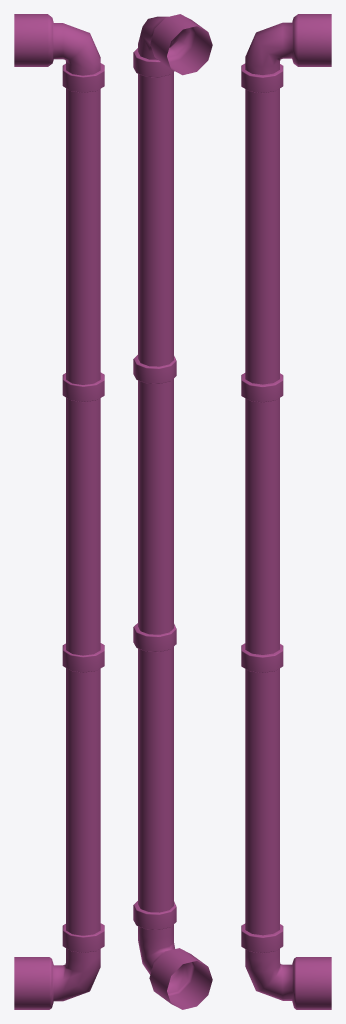
The model's file is Pipe_Large.fbx.
3 views of the same model, side by side, from view 1: azimuth 90°, elevation 25°; view 2: azimuth 210°, elevation 25°; view 3: azimuth 270°, elevation 25° (orthographic).
Parts seen in each view (by area): view 1: Pipe_Large; view 2: Pipe_Large; view 3: Pipe_Large.
Boxes of the visible parts, box(x1,y1,x2,y2) form: Pipe_Large: box(14, 14, 104, 1009); Pipe_Large: box(133, 14, 212, 1009); Pipe_Large: box(241, 14, 331, 1009).
Size of the model in its own units: 34.94 by 59.12 by 713.
